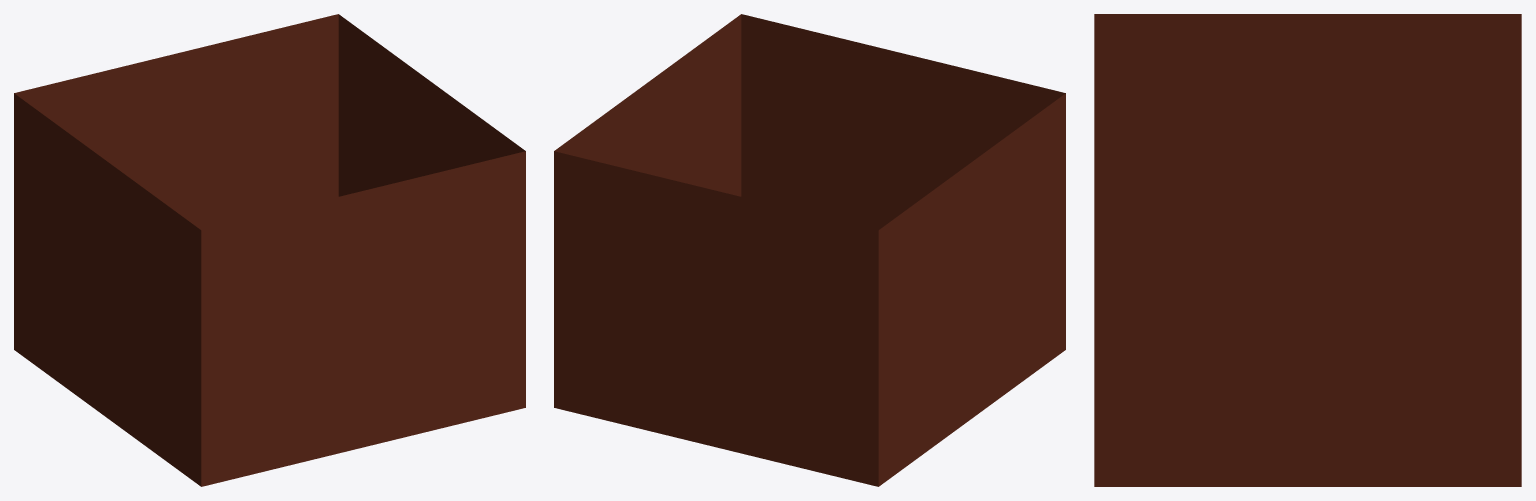
File: smallchurch-0.obj
3 views of the same model, side by side, from view 1: azimuth 30°, elevation 25°; view 2: azimuth 150°, elevation 25°; view 3: azimuth 270°, elevation 25° (orthographic). The views are drawn at different scales.
Parts seen in each view (by area): view 1: house_wall.002; view 2: house_wall.002; view 3: house_wall.002.
Boxes of the visible parts, box(x1,y1,x2,y2) form: house_wall.002: box(14, 14, 525, 486); house_wall.002: box(554, 14, 1065, 486); house_wall.002: box(1094, 14, 1521, 486).
Size of the model in its own units: 6.38 by 4.82 by 6.38.
